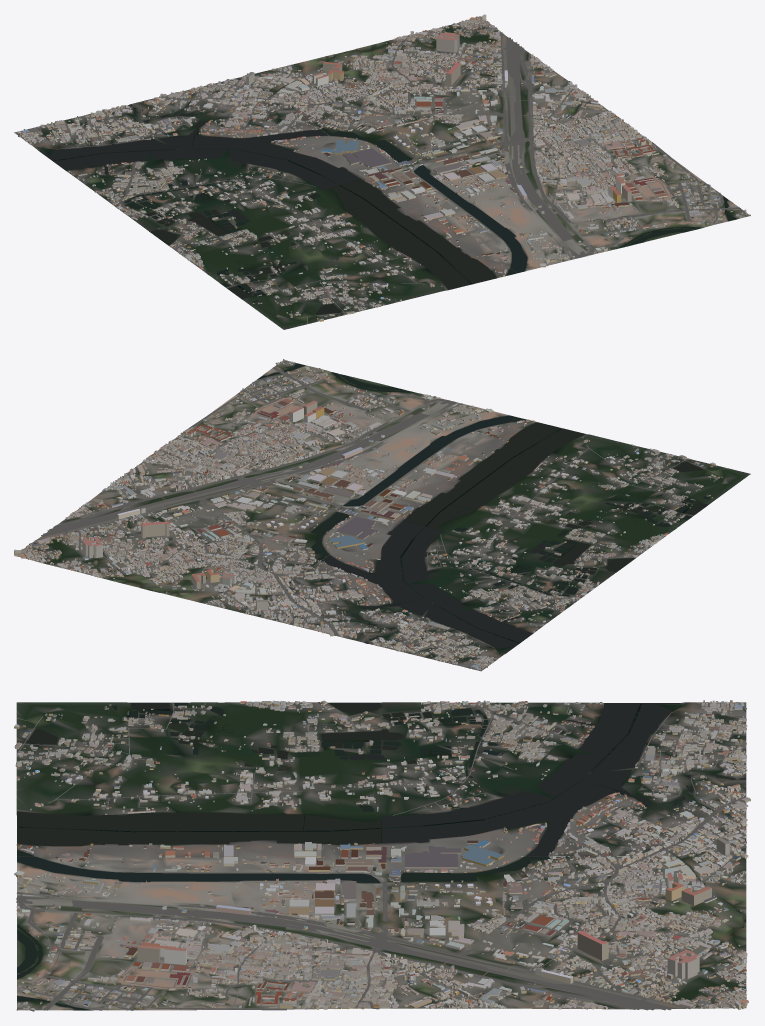
The picture shows the model from 3 angles, top to bottom: view 1: azimuth 30°, elevation 25°; view 2: azimuth 150°, elevation 25°; view 3: azimuth 270°, elevation 25°; orthographic projection. The views are drawn at different scales.
Visible parts, largest first — view 1: ground, buildings, water, roads; view 2: ground, buildings, water, roads; view 3: ground, buildings, water, roads.
Part boxes in pixels (bbox=[...]): ground: bbox=[14, 20, 749, 329]; buildings: bbox=[17, 14, 750, 321]; water: bbox=[39, 49, 736, 314]; roads: bbox=[15, 22, 740, 324]; ground: bbox=[14, 360, 750, 671]; buildings: bbox=[14, 359, 722, 669]; water: bbox=[87, 363, 710, 653]; roads: bbox=[32, 366, 726, 670]; ground: bbox=[16, 702, 746, 1010]; buildings: bbox=[14, 700, 750, 1011]; water: bbox=[17, 702, 745, 1010]; roads: bbox=[16, 702, 746, 1010].
Size of the model in its own units: 2820 by 78.24 by 2830.
